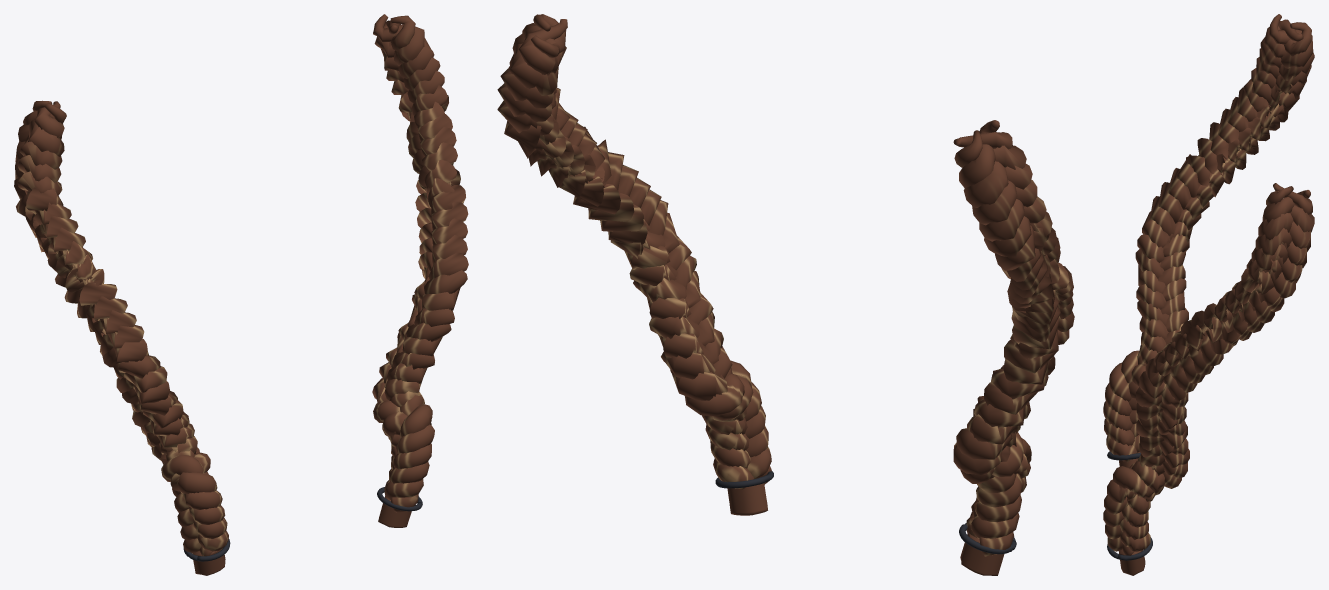
File: Highlights-4a8e6b11dd5d252-hair.glb
3 renders of one model, left to right at view 1: azimuth 30°, elevation 25°; view 2: azimuth 150°, elevation 25°; view 3: azimuth 270°, elevation 25°, orthographic. The views are drawn at different scales.
Parts seen in each view (by area): view 1: 226 hairLengths / Hair / chestnut226, 226 hairLengths / Hair / ties226; view 2: 226 hairLengths / Hair / chestnut226, 226 hairLengths / Hair / ties226; view 3: 226 hairLengths / Hair / chestnut226, 226 hairLengths / Hair / ties226.
Boxes of the visible parts, left/top/right/bottom form: 226 hairLengths / Hair / chestnut226: left=14, top=14, right=468, bottom=575; 226 hairLengths / Hair / ties226: left=183, top=487, right=422, bottom=561; 226 hairLengths / Hair / chestnut226: left=497, top=14, right=1074, bottom=575; 226 hairLengths / Hair / ties226: left=715, top=471, right=1016, bottom=554; 226 hairLengths / Hair / chestnut226: left=1103, top=14, right=1314, bottom=575; 226 hairLengths / Hair / ties226: left=1107, top=451, right=1152, bottom=560.
Bounding box in the file's own units: 1.09 × 1.05 × 0.4747.
Materials: 2 (1 with a texture image).
